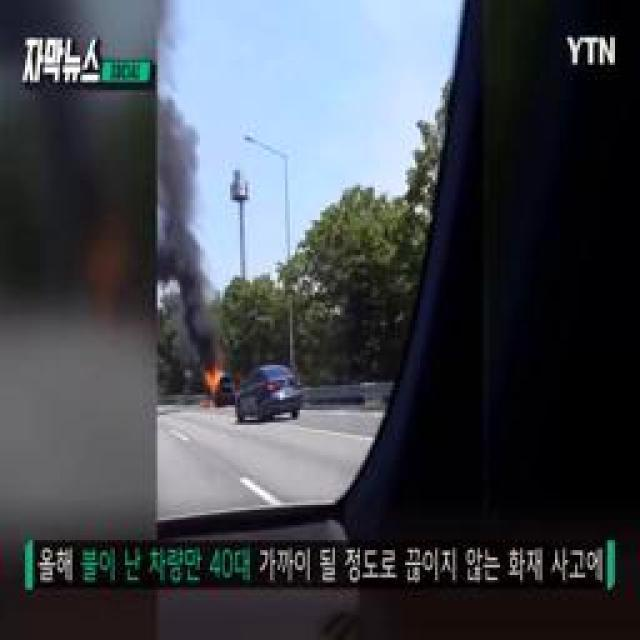Fire: (202, 376, 227, 409)
